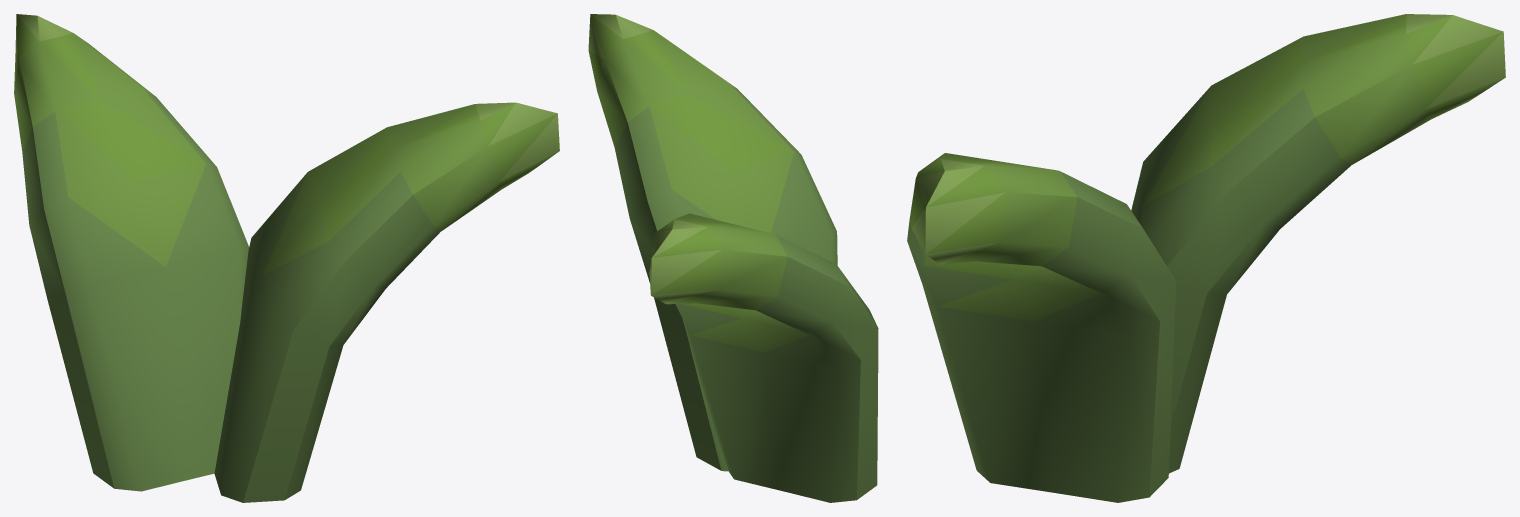
The model's file is itch_tiny_pretty_park_grass_b.glb.
3 renders of one model, left to right at view 1: azimuth 30°, elevation 25°; view 2: azimuth 150°, elevation 25°; view 3: azimuth 270°, elevation 25°, orthographic. The views are drawn at different scales.
Parts seen in each view (by area): view 1: grass_B; view 2: grass_B; view 3: grass_B.
Part boxes in pixels (x1,y1,x2,y2): grass_B: (14,14,559,502); grass_B: (588,14,878,502); grass_B: (907,14,1505,502).
Bounding box in the file's own units: 0.8863 × 0.7575 × 0.96.
